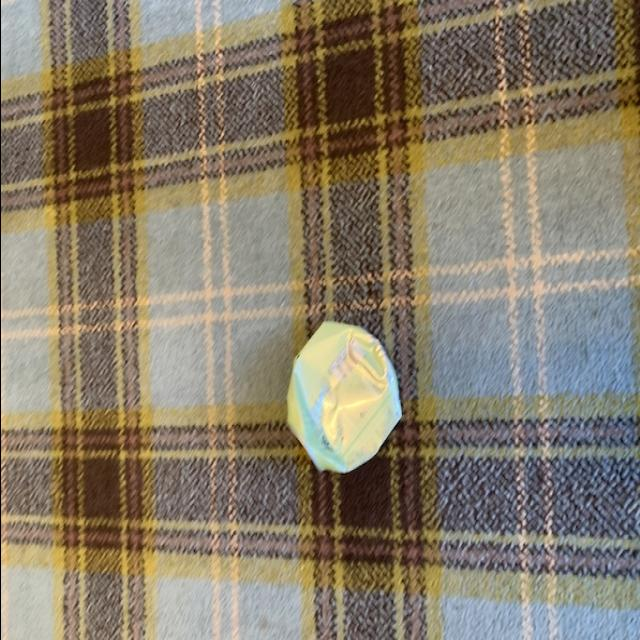Aluminum Can: (274, 322, 404, 483)
